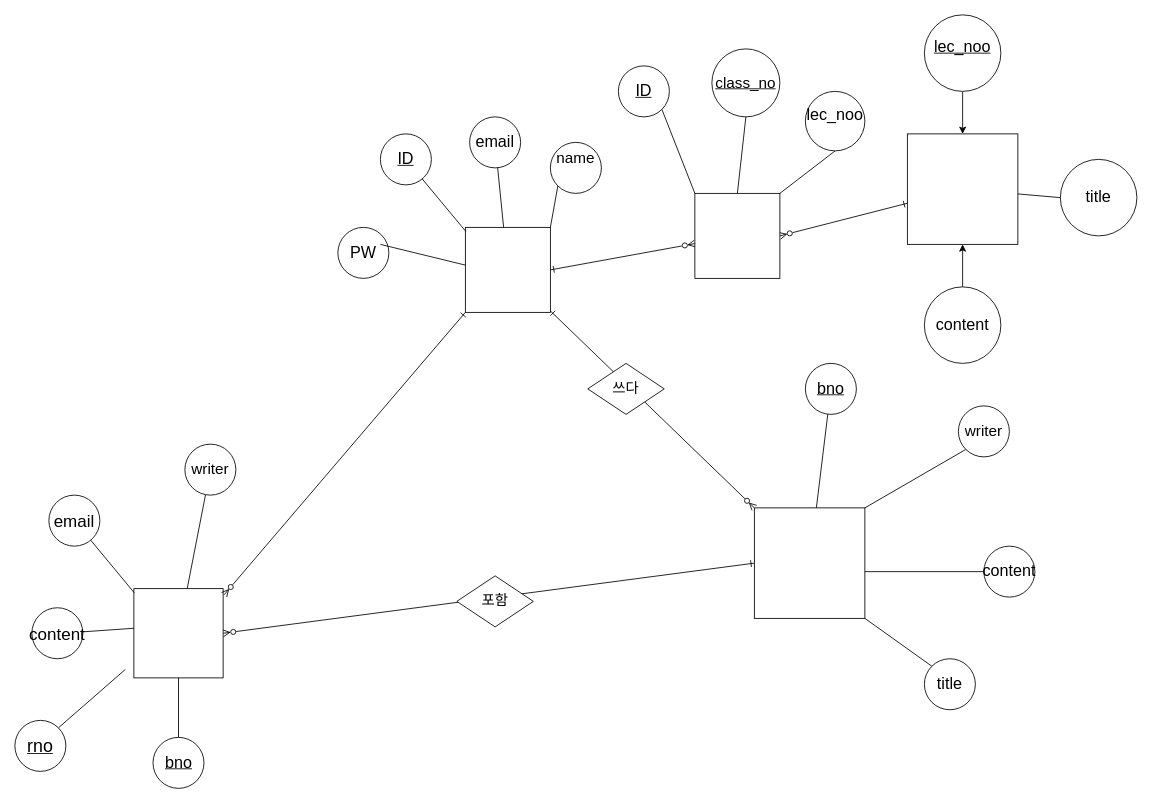
Some shapes in this 1152 by 803 pixel diagram are drawn without their labels. The shapes that lost their labels are listed below. From the top down, each one's centre as x and y in pixels, then its label:
At [962,188]: "강의".
At [737,235]: "수강 신청".
At [507,269]: "회원".
At [809,562]: "게시글".
At [178,633]: "댓글".
